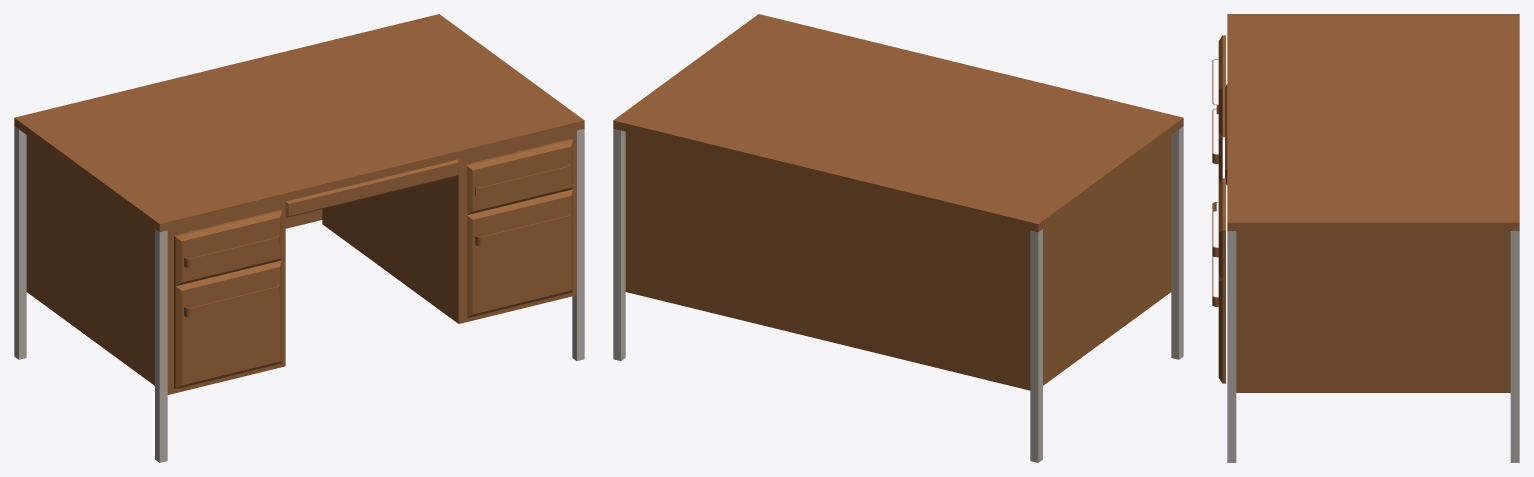
Rendered from Desk-7ban171PzCS.glb.
The picture shows the model from 3 angles, left to right: view 1: azimuth 30°, elevation 25°; view 2: azimuth 150°, elevation 25°; view 3: azimuth 270°, elevation 25°; orthographic projection.
Parts seen in each view (by area): view 1: Node; view 2: Node; view 3: Node.
Boxes of the visible parts, x1,y1,x2,y2 form: Node: (14, 14, 584, 462); Node: (613, 14, 1183, 462); Node: (1212, 14, 1519, 462).
Size of the model in its own units: 54 by 29 by 33.63.
